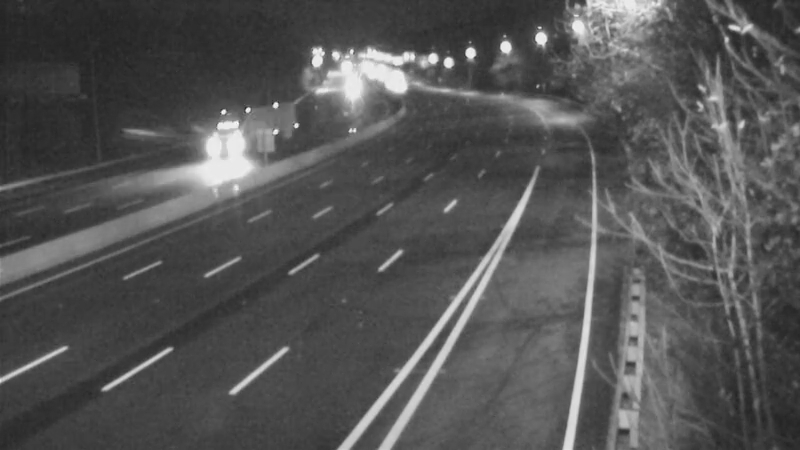vehicle: (371, 59, 421, 109), (201, 115, 251, 165), (327, 63, 377, 113)
